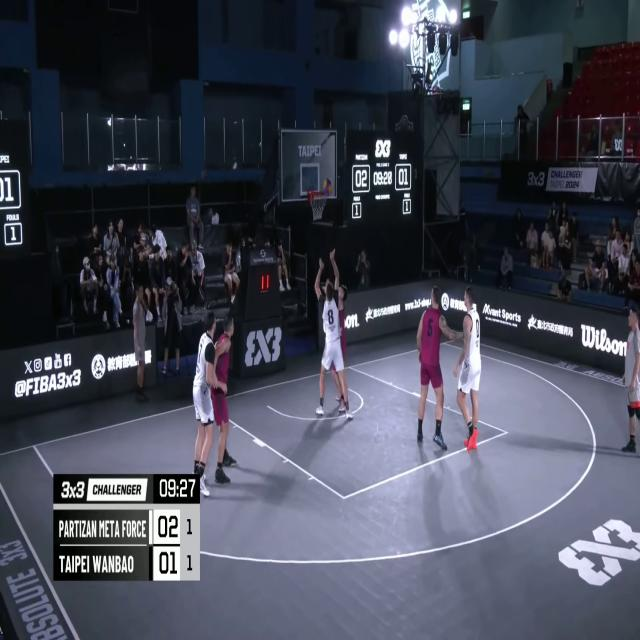ball: (317, 177, 334, 200)
hoop: (306, 185, 330, 224)
player: (412, 278, 454, 453), (448, 286, 485, 454), (315, 253, 351, 424), (192, 312, 221, 497), (209, 314, 236, 490), (327, 257, 352, 419)
